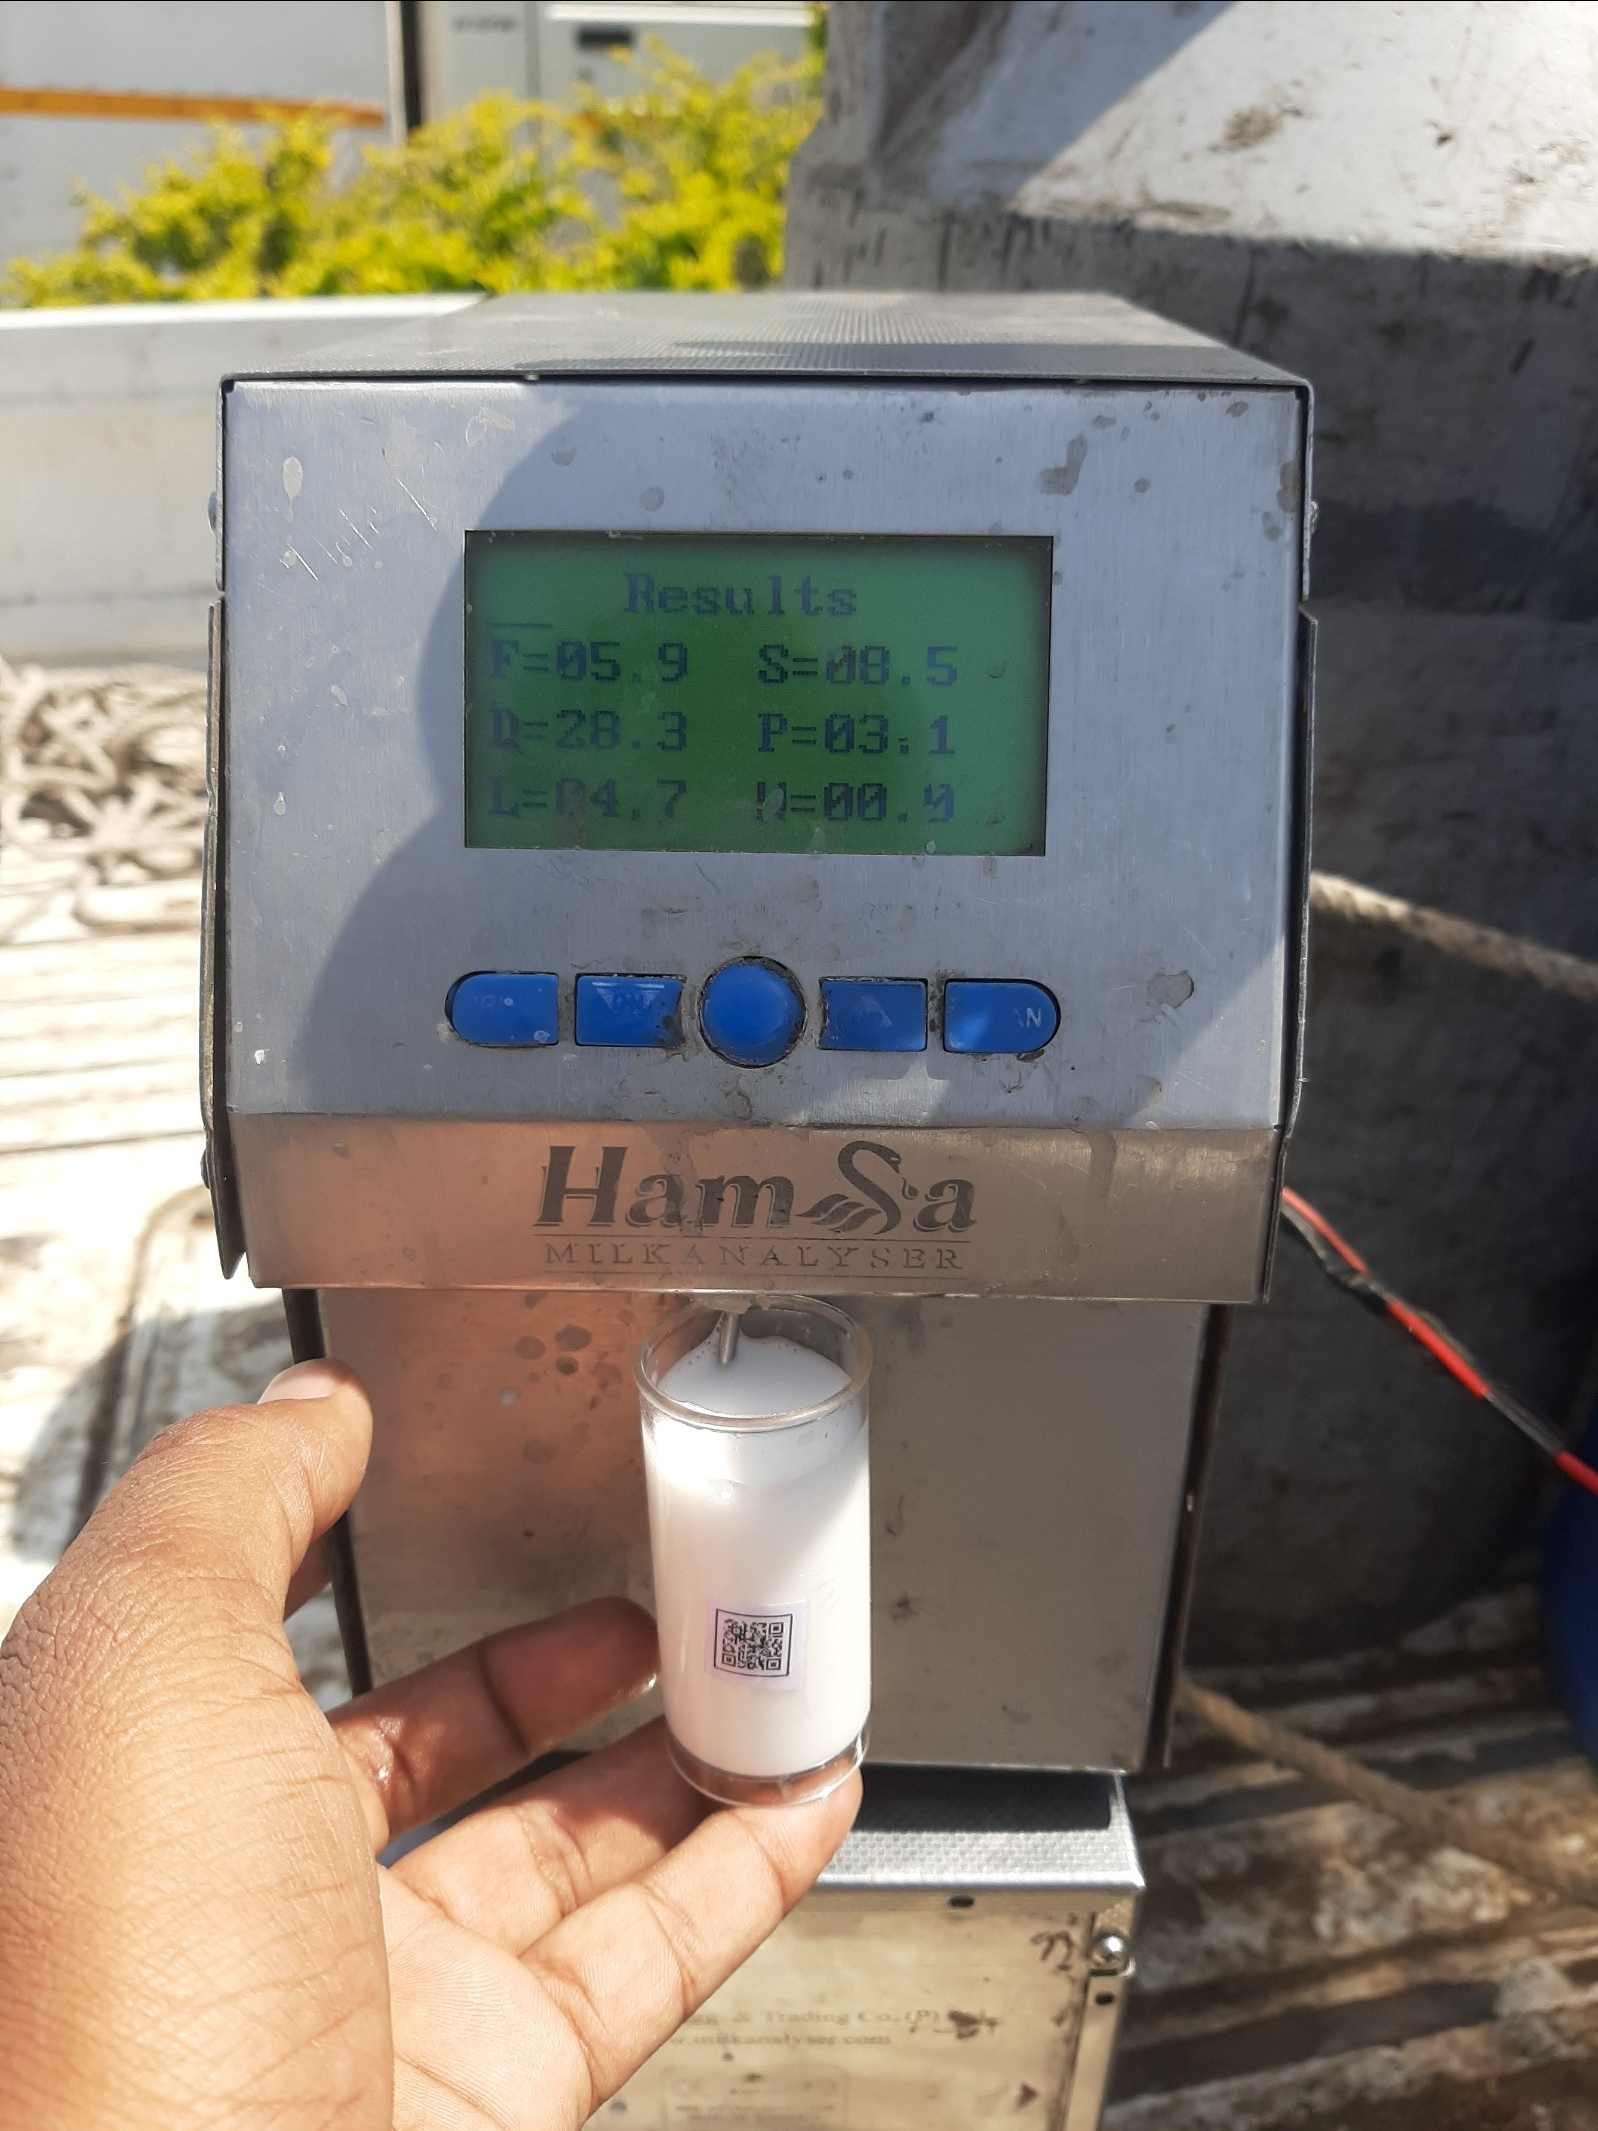lcd: (406, 487, 1074, 899)
qr: (690, 1594, 816, 1681)
